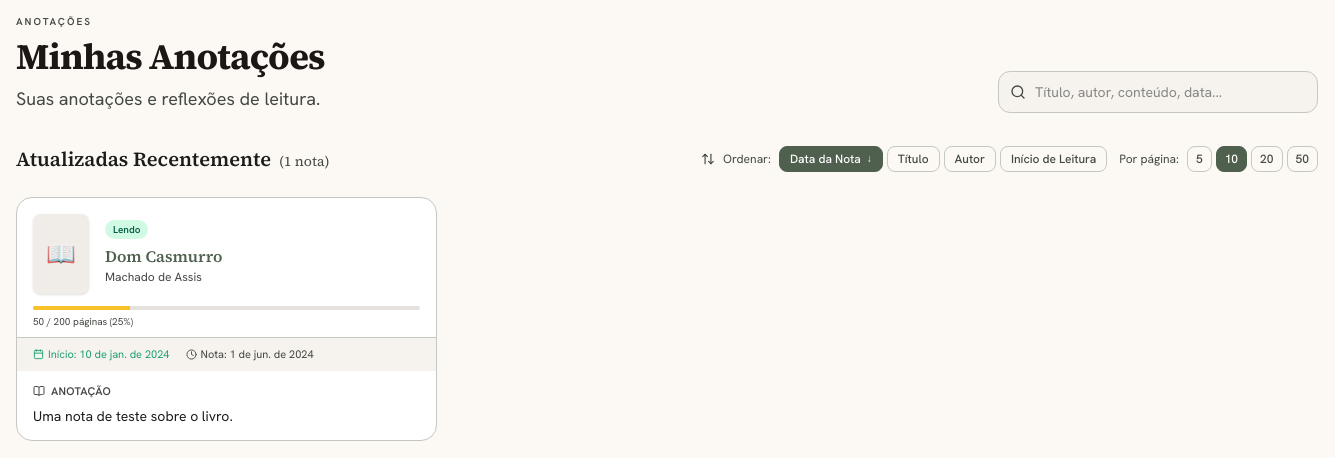
it: NotesDashboardPage — search filter › shows "Nenhum resultado encontrado" when filter matches nothing
The width and height of the screenshot is (1335, 458).
In the field with placeholder "Título, autor, conteúdo, data...": [1158, 92] box [998,71,1318,113], type "xyzabcdef"
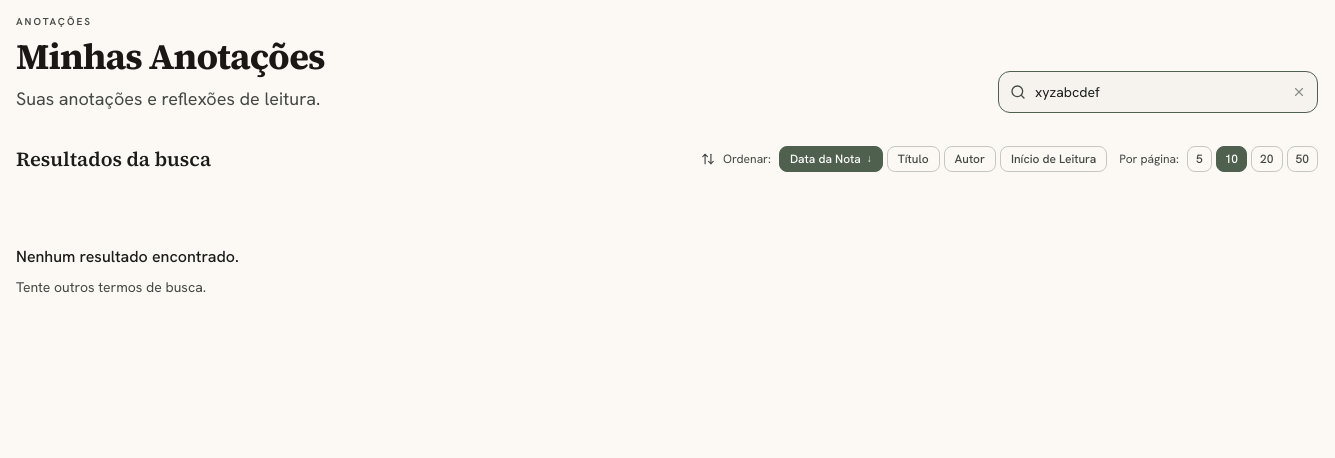
expect the text "Nenhum resultado encontrado." is shown: met, box [16,245,239,269]
expect the text "Tente outros termos de busca." is shown: met, box [16,277,206,297]
